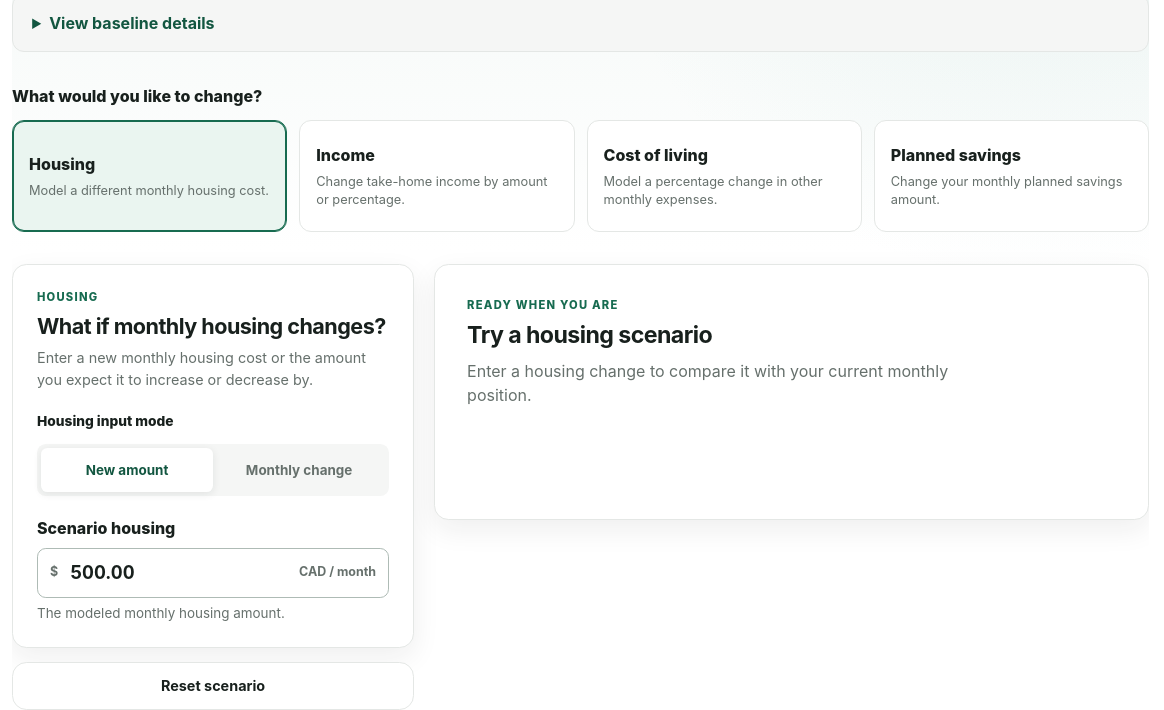
Test: ScenarioLab › explains when planned savings exceed core surplus without rejecting the input
The width and height of the screenshot is (1164, 710).
(page scrolled)
Replace the text in the field labelled "Scenario housing" with "500" at [179, 573], box 70,549 -> 287,597
(page scrolled)
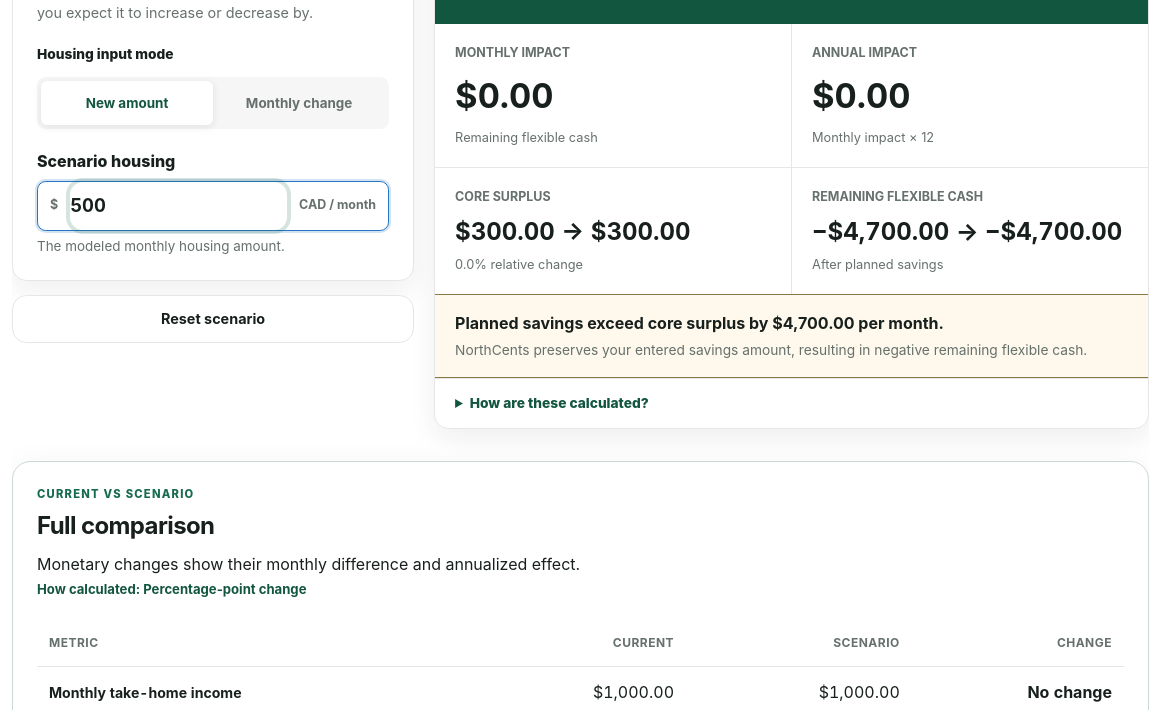
Now the text "Planned savings exceed core surplus by $4,700.00 per month." is shown, box 455,314 -> 944,334
Now the text "preserves your entered savings amount" is shown, box 455,342 -> 1087,358
